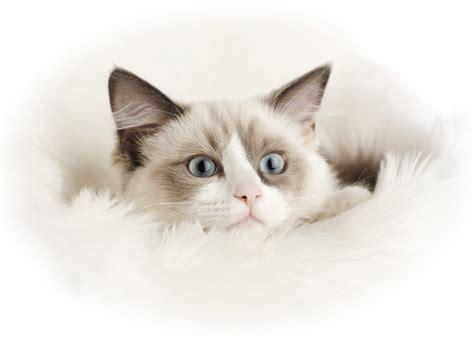cat: (107, 63, 371, 237)
